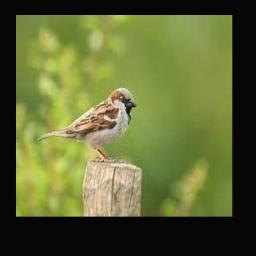Sparrow: (38, 87, 137, 161)
